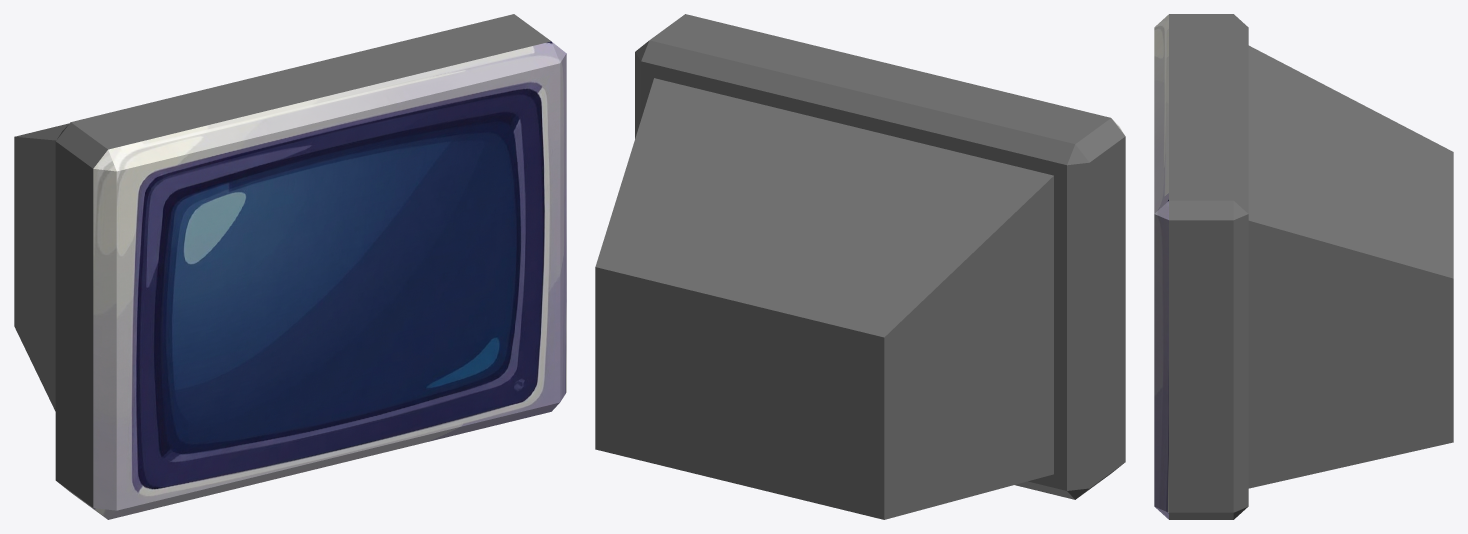
The model's file is ComputerCartoon.glb.
The picture shows the model from 3 angles, left to right: view 1: azimuth 30°, elevation 25°; view 2: azimuth 150°, elevation 25°; view 3: azimuth 270°, elevation 25°; orthographic projection. The views are drawn at different scales.
Visible parts, largest first — view 1: Cube; view 2: Cube; view 3: Cube.
Boxes of the visible parts, bbox=[...] form: Cube: bbox=[14, 14, 566, 519]; Cube: bbox=[595, 14, 1125, 519]; Cube: bbox=[1154, 14, 1453, 519].
Size of the model in its own units: 2 by 1.5 by 1.27.
2 materials, 2 textured.
